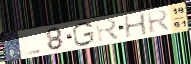8: (45, 26, 66, 51)
G: (72, 21, 96, 48)
H: (123, 11, 149, 39)
L: (21, 32, 42, 56)
R: (94, 17, 121, 44), (145, 9, 172, 35)
